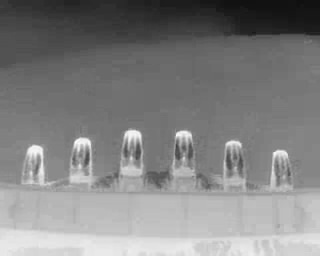claw: (120, 128, 144, 175), (71, 135, 94, 184), (171, 130, 195, 175), (223, 138, 246, 181), (22, 144, 45, 185), (271, 147, 294, 188)
